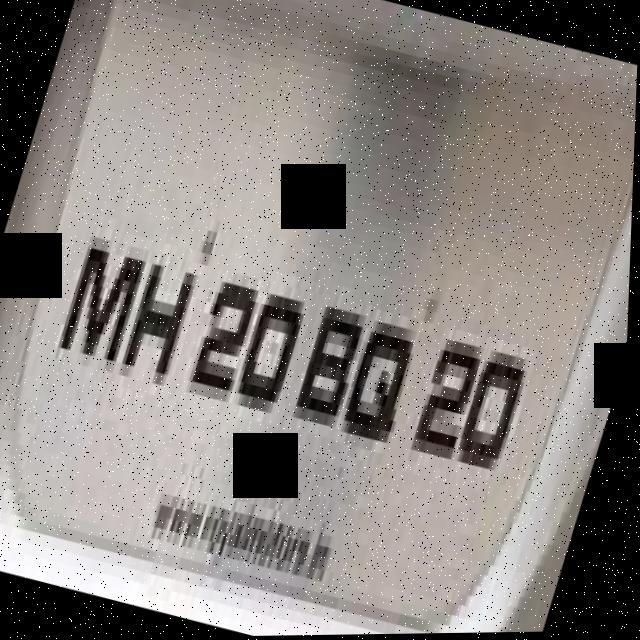0: (226, 270, 324, 438), (449, 338, 542, 499)
B: (278, 262, 391, 465)
H: (113, 232, 211, 409)
M: (40, 208, 160, 411)
Q: (331, 287, 439, 478)
